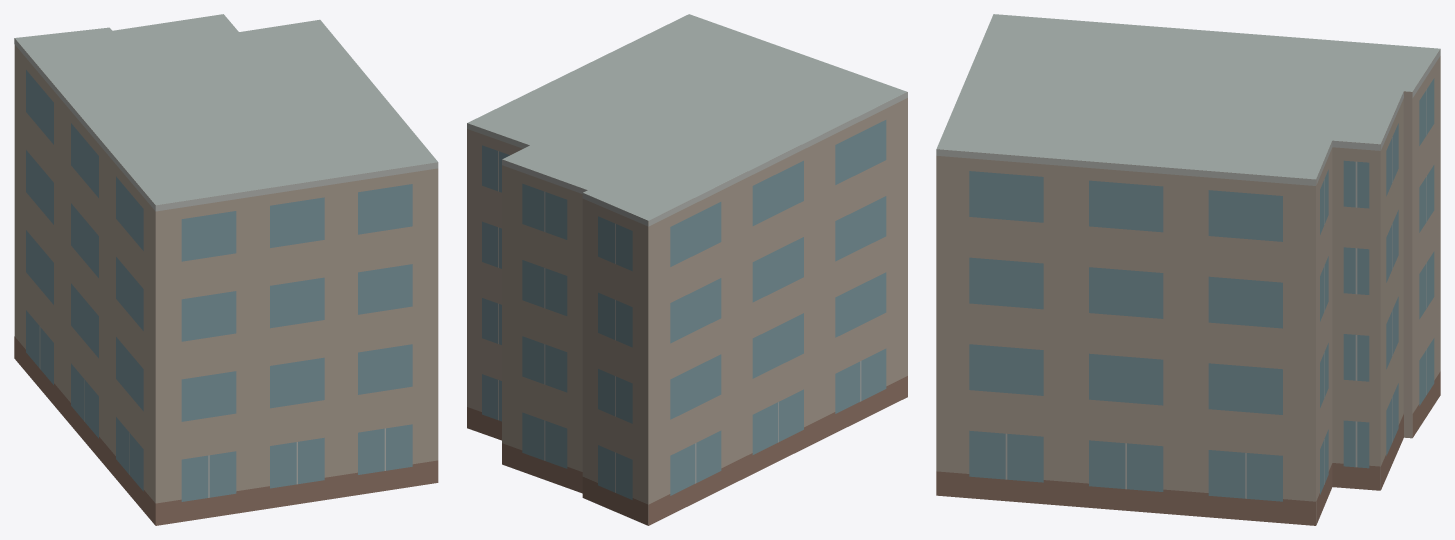
Rendered from survey-upis-32666121.glb.
3 renders of one model, left to right at view 1: azimuth 30°, elevation 25°; view 2: azimuth 150°, elevation 25°; view 3: azimuth 270°, elevation 25°, orthographic. The views are drawn at different scales.
Visible parts, largest first — view 1: survey-upis-32666121.tmp; view 2: survey-upis-32666121.tmp; view 3: survey-upis-32666121.tmp.
Part boxes in pixels (x1,y1,x2,y2): survey-upis-32666121.tmp: [14, 14, 438, 525]; survey-upis-32666121.tmp: [467, 14, 907, 525]; survey-upis-32666121.tmp: [936, 14, 1440, 525].
Bounding box in the file's own units: 13.14 × 12.81 × 16.91.
